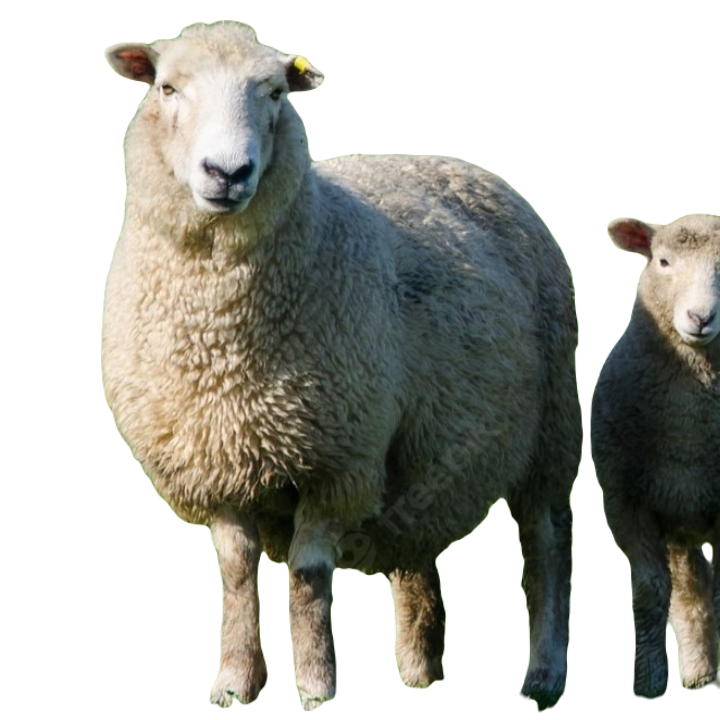Sheep: (98, 16, 585, 715), (590, 188, 719, 702)
